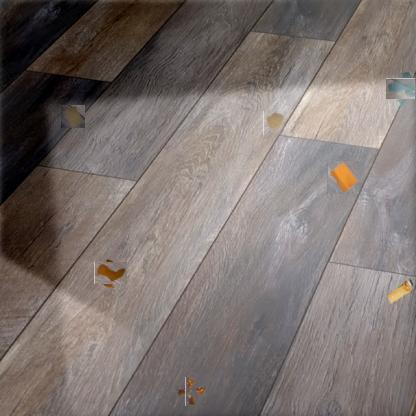dirty: (327, 160, 359, 194), (385, 276, 415, 304), (97, 260, 125, 287), (61, 104, 85, 128), (181, 381, 201, 402)
liquid: (390, 74, 416, 102), (263, 111, 284, 135)
